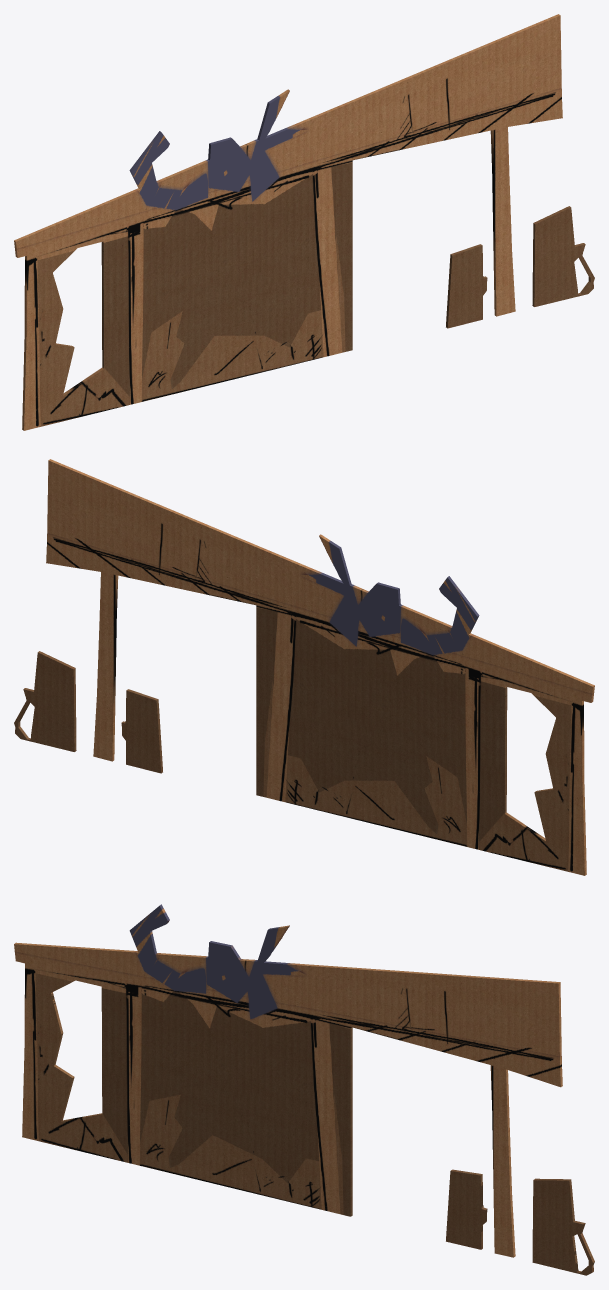
File: shop_1.FBX
3 renders of one model, top to bottom at view 1: azimuth 30°, elevation 25°; view 2: azimuth 150°, elevation 25°; view 3: azimuth 330°, elevation 25°, orthographic.
Parts seen in each view (by area): view 1: shop_1; view 2: shop_1; view 3: shop_1.
Part boxes in pixels (x1=…): shop_1: x1=14, y1=14, x2=594, y2=430; shop_1: x1=14, y1=459, x2=594, y2=875; shop_1: x1=14, y1=904, x2=594, y2=1275.
Size of the model in its own units: 1226 by 578 by 7.
1 material, 1 textured.
